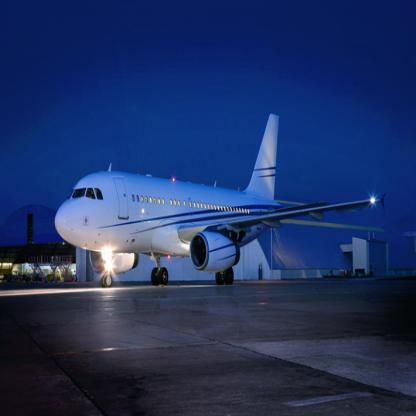CIV_Plane: (53, 108, 387, 298)
